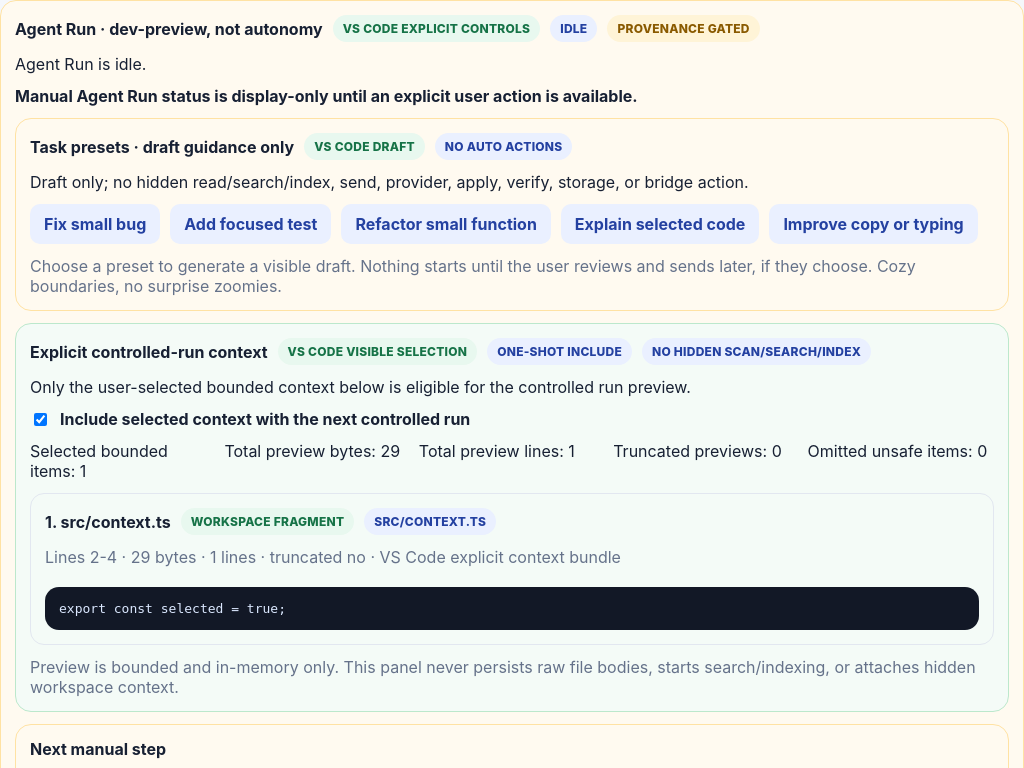
Test: AgentRunPanel › renders explicit controlled-run context selector with bounded preview and disabled unsupported hosts
Click the checkbox labelled "Include selected context with the next controlled run" at (40, 419), box [34, 412, 47, 426]
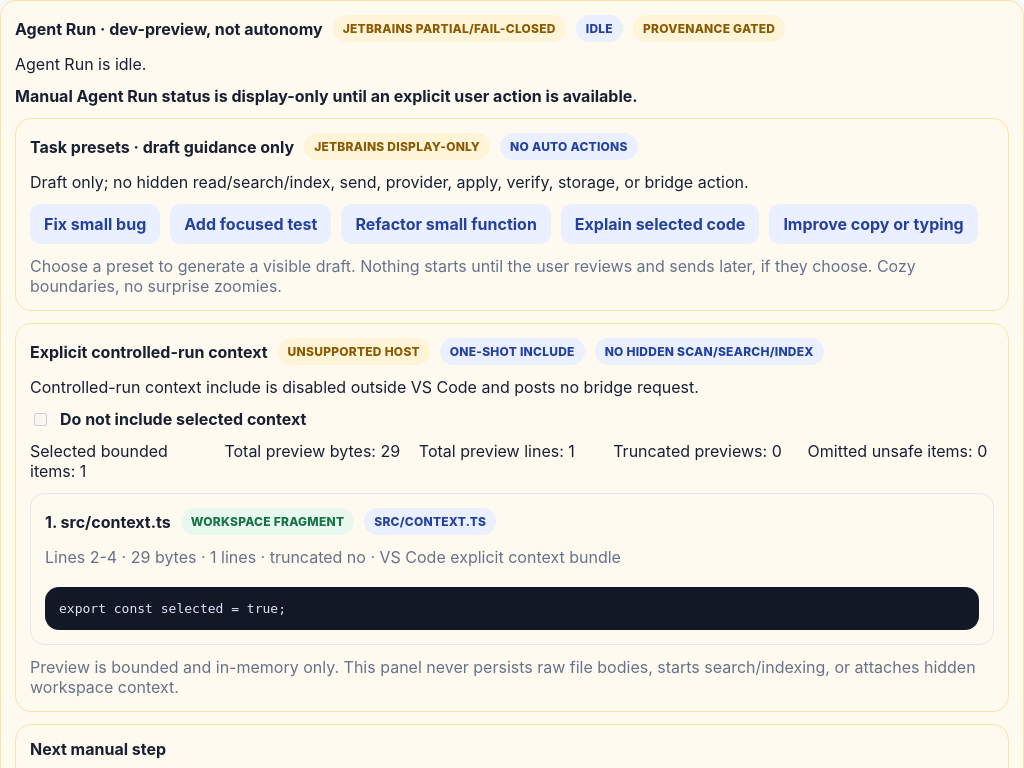
Check: the text "unsupported host" is shown, box [278, 338, 430, 365]
Check: the text "Controlled-run context include is disabled outside VS Code and posts no bridge request." is shown, box [30, 377, 699, 397]
Check: the checkbox labelled "Do not include selected context" is disabled, box [34, 412, 47, 426]
